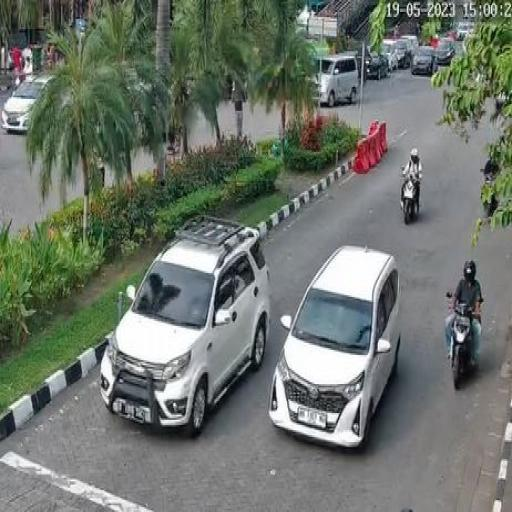mobil: (99, 224, 272, 434), (270, 248, 402, 448)
motor: (444, 283, 485, 398), (398, 161, 427, 230)
